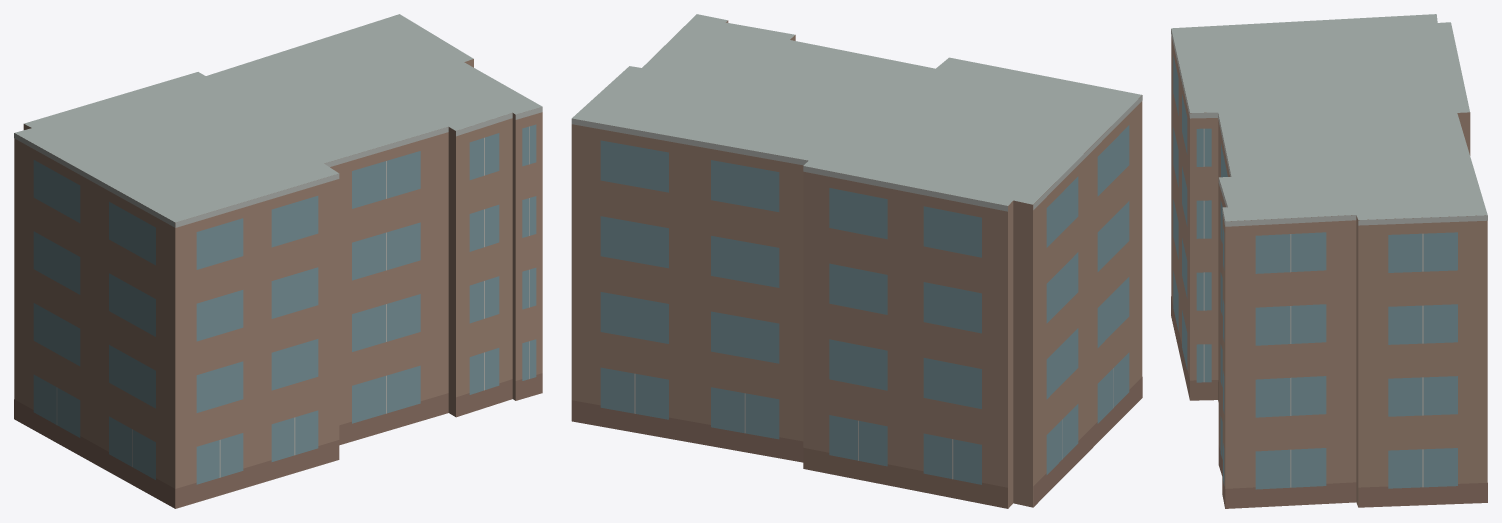
Rendered from survey-upis-32512227.glb.
3 renders of one model, left to right at view 1: azimuth 30°, elevation 25°; view 2: azimuth 150°, elevation 25°; view 3: azimuth 270°, elevation 25°, orthographic. The views are drawn at different scales.
Visible parts, largest first — view 1: survey-upis-32512227.tmp; view 2: survey-upis-32512227.tmp; view 3: survey-upis-32512227.tmp.
Boxes of the visible parts, x1,y1,x2,y2 form: survey-upis-32512227.tmp: (14, 14, 542, 508); survey-upis-32512227.tmp: (571, 14, 1142, 508); survey-upis-32512227.tmp: (1171, 14, 1487, 508).
Size of the model in its own units: 20.06 by 12.96 by 12.95.
